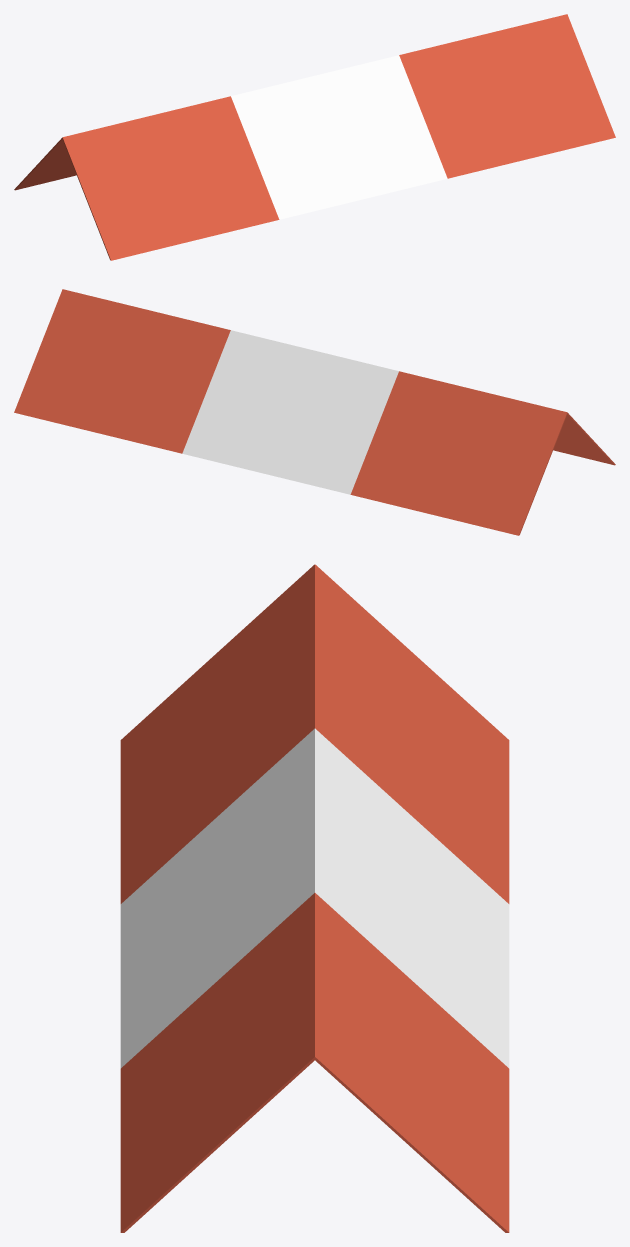
The model's file is boundary1.gltf.
3 renders of one model, top to bottom at view 1: azimuth 30°, elevation 25°; view 2: azimuth 150°, elevation 25°; view 3: azimuth 270°, elevation 25°, orthographic. The views are drawn at different scales.
Parts seen in each view (by area): view 1: Line001; view 2: Line001; view 3: Line001.
Part boxes in pixels (left/top/right/bottom): Line001: left=14, top=14, right=615, bottom=260; Line001: left=14, top=289, right=615, bottom=535; Line001: left=120, top=564, right=509, bottom=1232.
Size of the model in its own units: 3 by 0.5 by 1.
